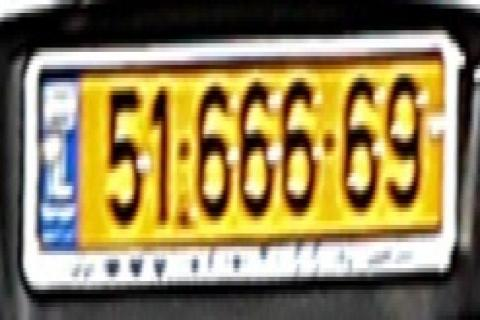LicensePlate: (18, 19, 463, 307)
